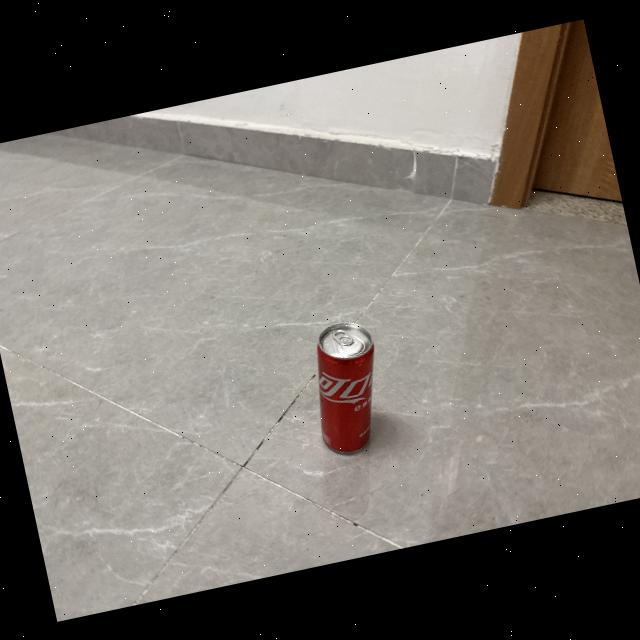Cola: (294, 312, 402, 465)
